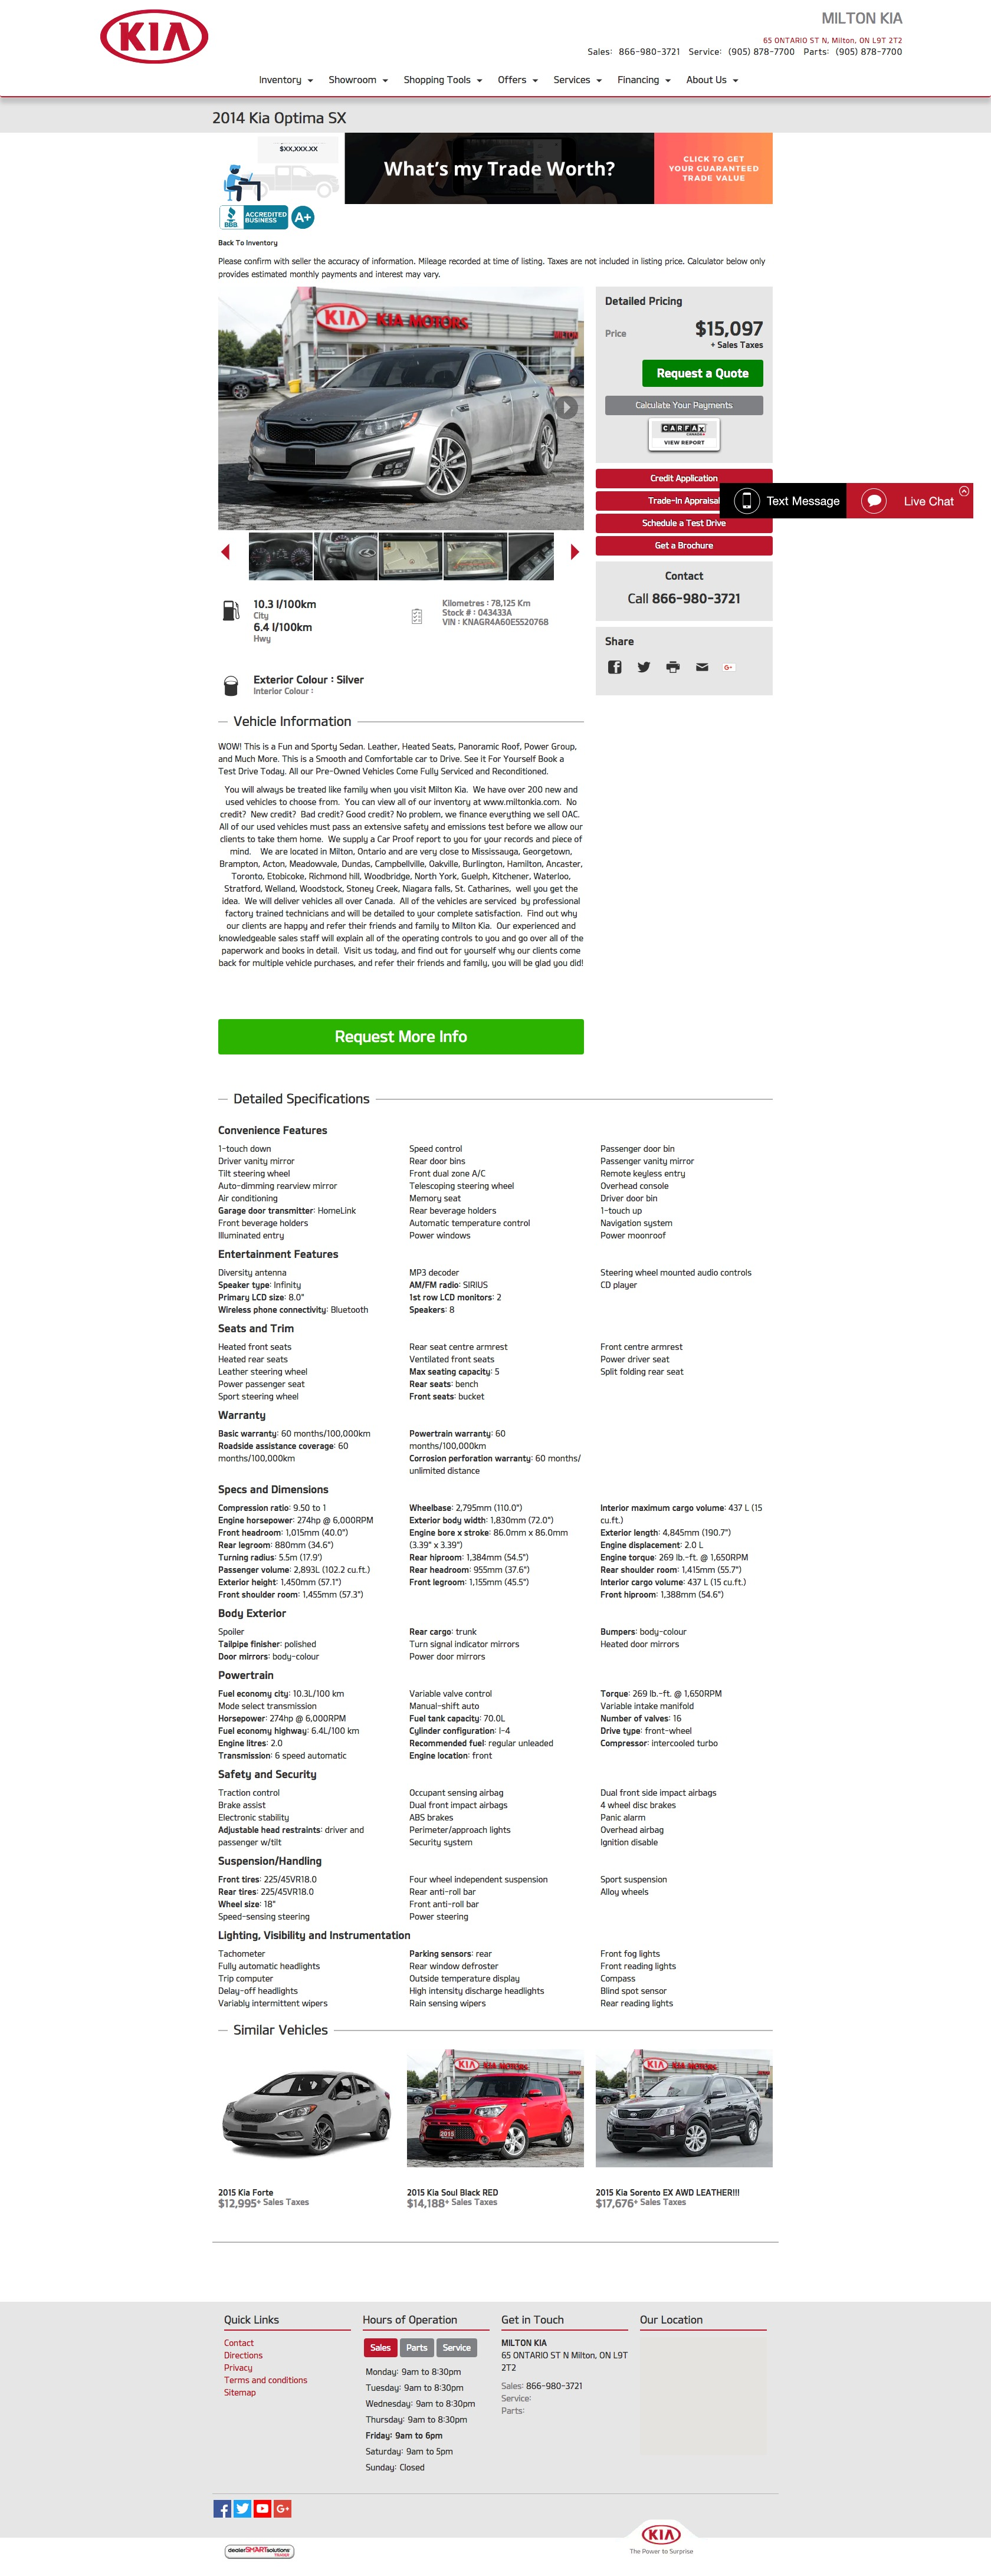car: (570, 544, 580, 560)
